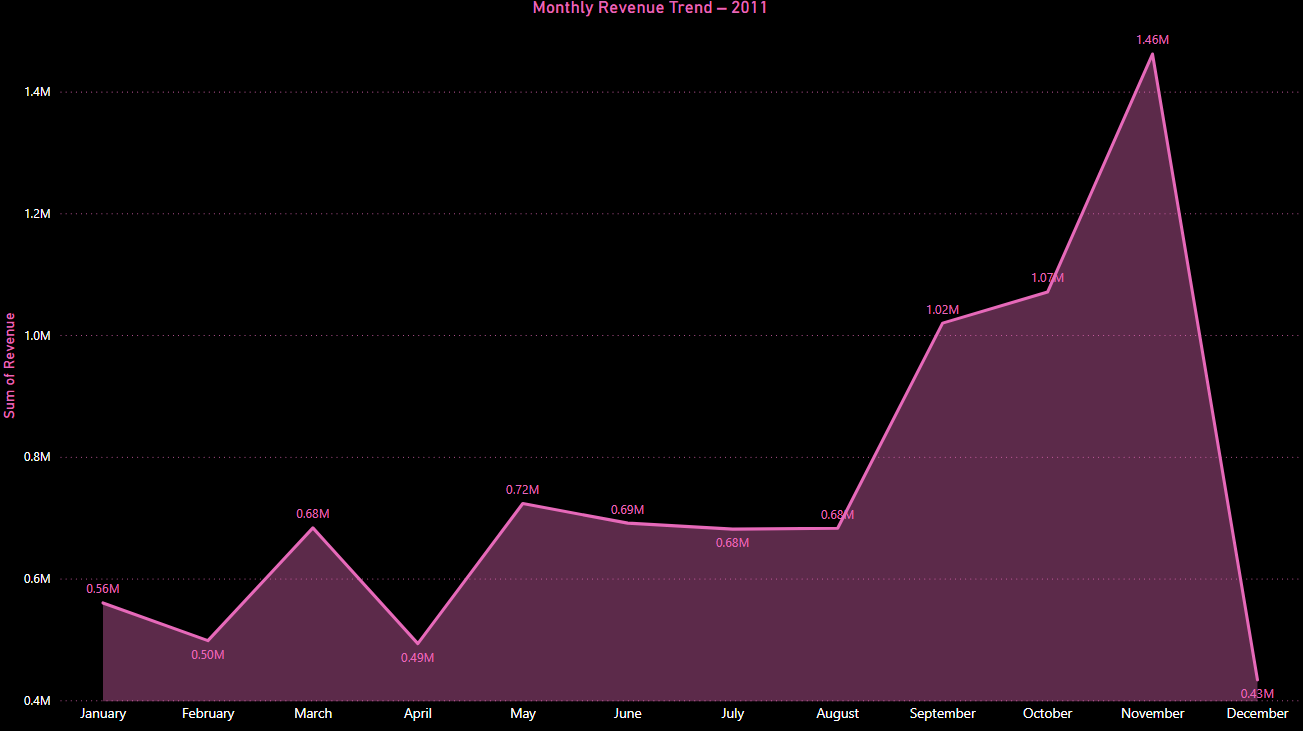

The page's visual inventory and layout, read from the dashboard file:
{"tool":"powerbi","page":{"name":"Question 1","canvas":[1280,720],"ordinal":0},"visuals":[{"type":"lineChart","title":"Monthly Revenue Trend – 2011","fields":{"Category":["Online Retail.InvoiceDate.Variation.Date Hierarchy.Month"],"Y":["Sum(Online Retail.Revenue)"]},"box":[0,0,1280.3,720.2],"z":2}]}

Visuals, with their boxes in screenshot pixels (x1, y1, x2, y2), scaled from the page's 1280x720 canvas onto the 1303x731 screenshot:
"Monthly Revenue Trend – 2011" lineChart: (x1=0, y1=0, x2=1302, y2=730)
